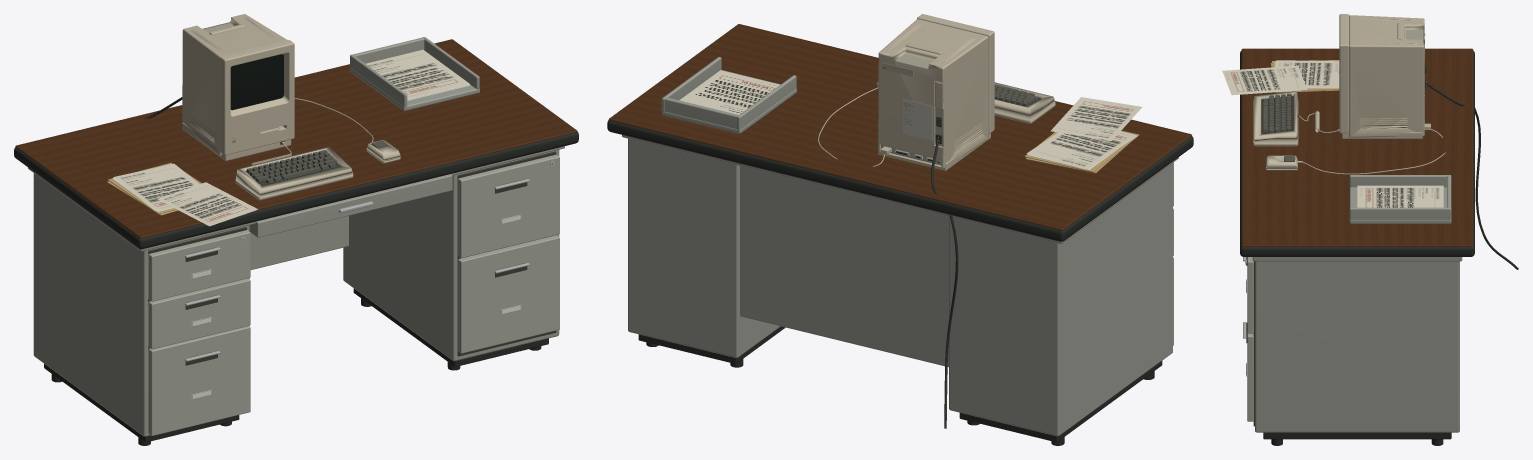
The model's file is desk-only.glb.
3 views of the same model, side by side, from view 1: azimuth 30°, elevation 25°; view 2: azimuth 150°, elevation 25°; view 3: azimuth 270°, elevation 25° (orthographic). The views are drawn at different scales.
Parts seen in each view (by area): view 1: Workstation 23, Workstation 24, Workstation 22, Workstation 21, Workstation 00, Workstation 01, Workstation 16, Workstation 32, CRT curved glass.001, Workstation 33, Workstation 17, Workstation 31 (+3 smaller); view 2: Workstation 23, Workstation 22, Workstation 00, Workstation 21, Workstation 32, Workstation 33, Workstation 31, Workstation 16, Workstation 07, Workstation 01, Workstation 14, Workstation 19 (+1 smaller); view 3: Workstation 23, Workstation 22, Workstation 00, Workstation 21, Workstation 16, Workstation 32, Workstation 33, Workstation 01, Workstation 31, Workstation 24, Workstation 19, Workstation 17 (+1 smaller).
Part boxes in pixels (<box>): Workstation 23: <box>28,37,564,436</box>; Workstation 24: <box>148,154,559,435</box>; Workstation 22: <box>15,39,577,238</box>; Workstation 21: <box>14,97,578,445</box>; Workstation 00: <box>182,14,291,160</box>; Workstation 01: <box>220,40,294,155</box>; Workstation 16: <box>235,98,400,200</box>; Workstation 32: <box>366,49,469,98</box>; CRT curved glass.001: <box>230,54,283,110</box>; Workstation 33: <box>157,182,258,226</box>; Workstation 17: <box>148,149,556,365</box>; Workstation 31: <box>113,163,199,211</box>; Workstation 23: <box>622,57,1178,436</box>; Workstation 22: <box>608,24,1191,230</box>; Workstation 00: <box>878,19,990,170</box>; Workstation 21: <box>607,120,1193,445</box>; Workstation 32: <box>679,70,779,114</box>; Workstation 33: <box>1050,97,1142,140</box>; Workstation 31: <box>1027,131,1136,169</box>; Workstation 16: <box>818,80,1055,166</box>; Workstation 07: <box>881,38,988,165</box>; Workstation 01: <box>889,14,994,133</box>; Workstation 14: <box>902,99,932,140</box>; Workstation 19: <box>994,84,1038,106</box>; Workstation 23: <box>1252,175,1462,432</box>; Workstation 22: <box>1241,48,1473,246</box>; Workstation 00: <box>1342,15,1424,138</box>; Workstation 21: <box>1240,50,1518,445</box>; Workstation 16: <box>1253,91,1445,174</box>; Workstation 32: <box>1357,185,1443,207</box>; Workstation 33: <box>1222,65,1307,95</box>; Workstation 01: <box>1339,14,1349,133</box>; Workstation 31: <box>1276,60,1339,88</box>; Workstation 24: <box>1247,257,1253,421</box>; Workstation 19: <box>1263,93,1294,161</box>; Workstation 17: <box>1245,95,1298,426</box>.
Size of the model in its own units: 1.52 by 1.09 by 0.9617.
Materials: 32 (4 with a texture image).
